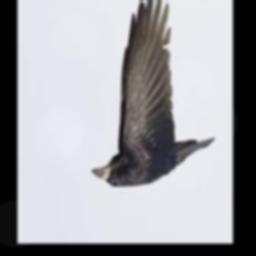Crow: (90, 0, 214, 187)
